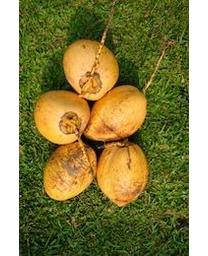coconut: (81, 86, 148, 142), (63, 41, 121, 103), (95, 141, 149, 206), (43, 139, 95, 202), (34, 91, 91, 144)
